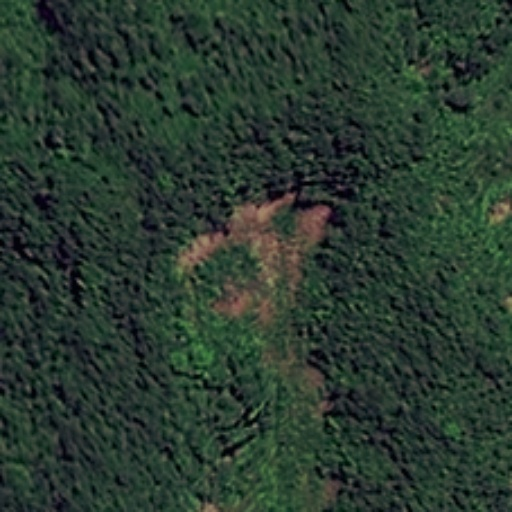landslide: (179, 187, 339, 314)
